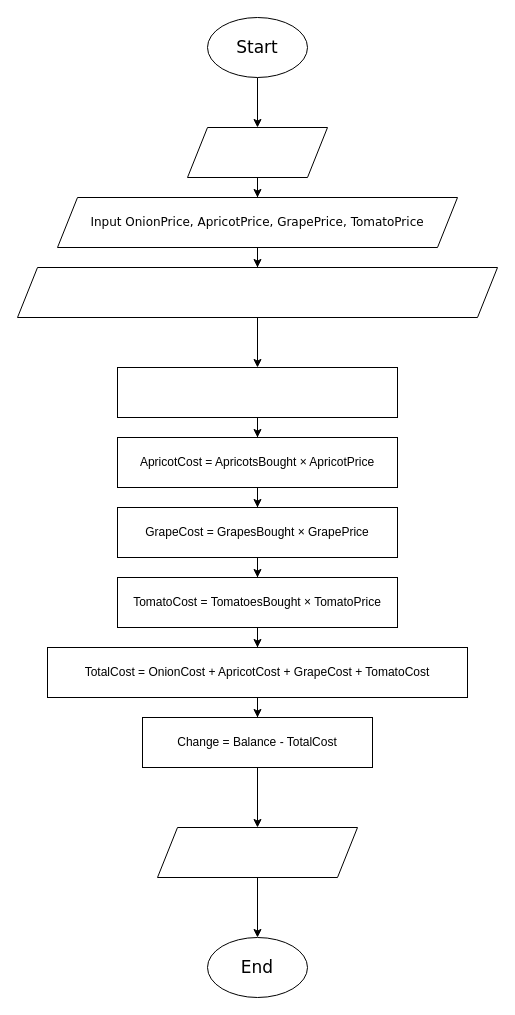
The diagram is 515 pixels wide and 1015 high, and some of its shapes have lost their labels. Here are the shapes that lost their labels. From the top down, the centre of each, then its label:
At [257,152]: "Input Balance".
At [257,292]: "Input OnionsBought, ApricotsBought, GrapesBought, TomatoesBought".
At [257,392]: "OnionCost = OnionsBought × OnionPrice".
At [257,852]: "Print TotalCost, Change".
